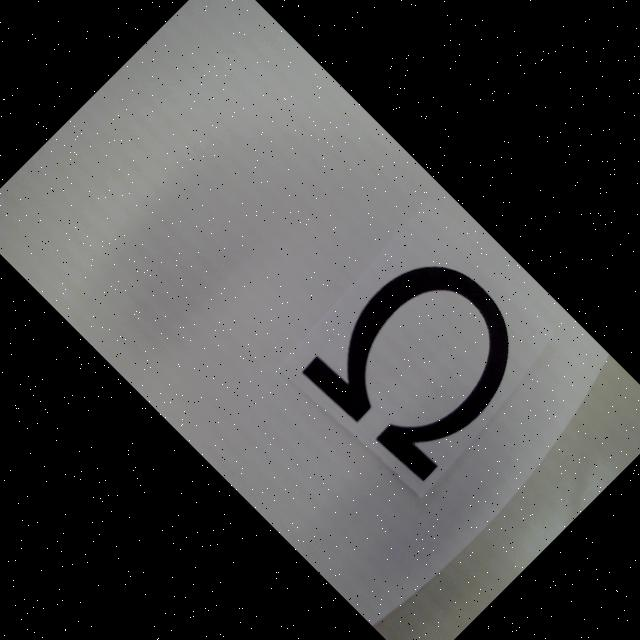OMEGA: (298, 238, 548, 488)
